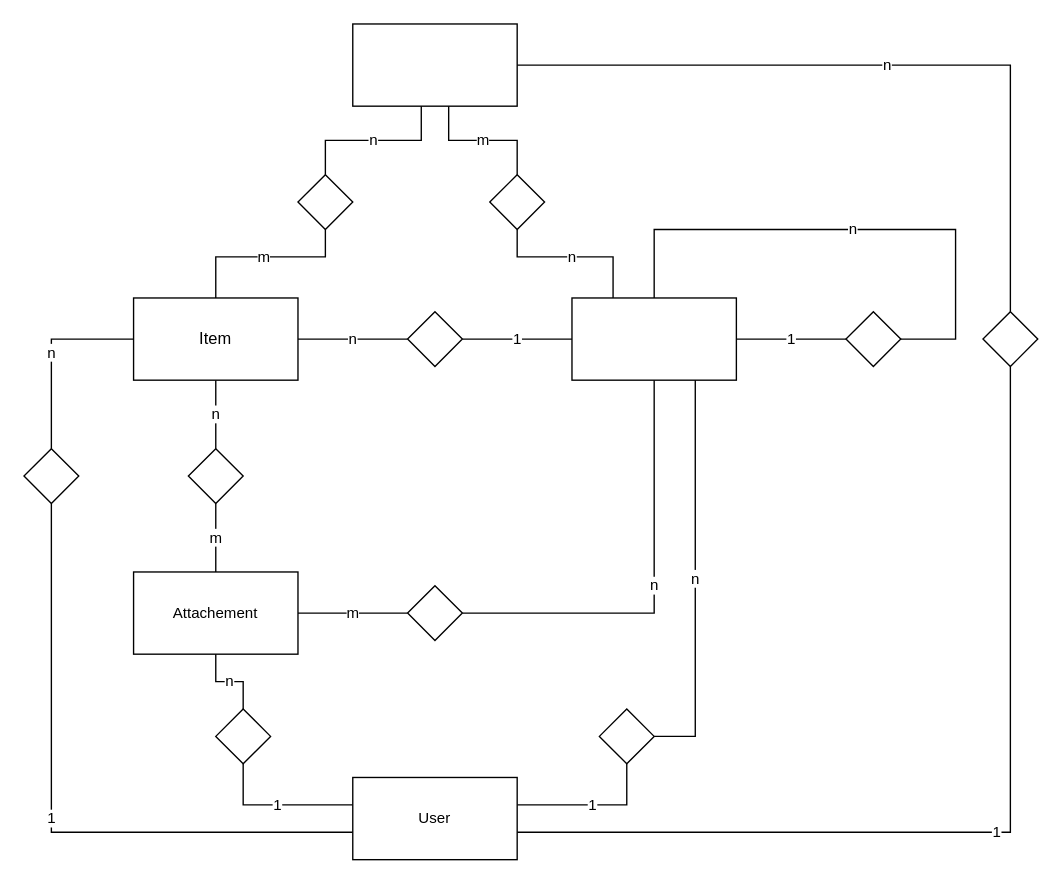
The diagram is 1062 pixels wide and 884 high, and some of its shapes have lost their labels. The shapes that lost their labels are listed below. From the top down, each one's box as (x1, y1, x2, y2) in pixels, then its label:
(351, 23, 517, 106): ItemCategory
(571, 297, 736, 380): Location
